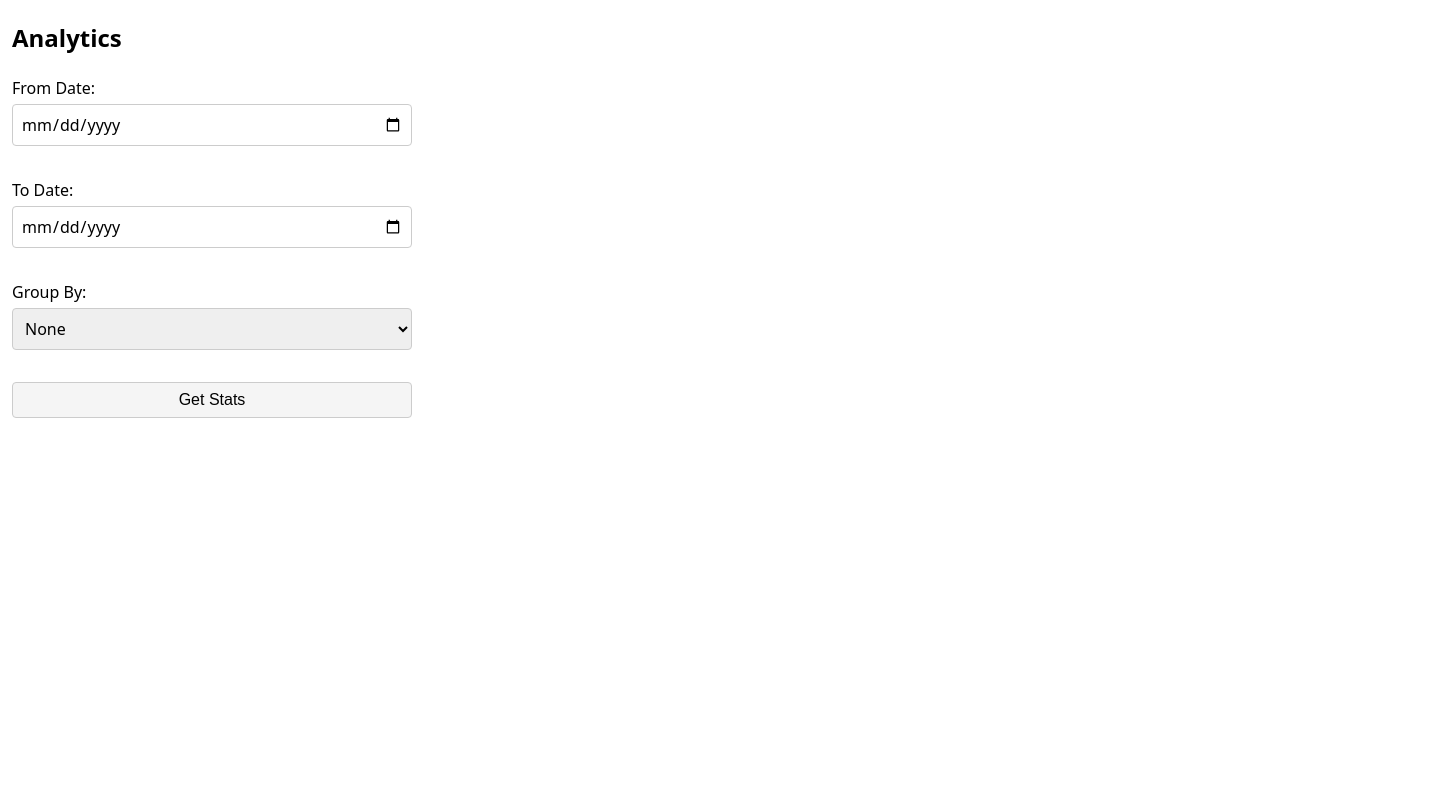
Test: AnalyticsView › renders period column when groupBy is set
Step 1. Select "Day" in the dropdown with id "group-by" → [212, 329], box [12,308,412,350]
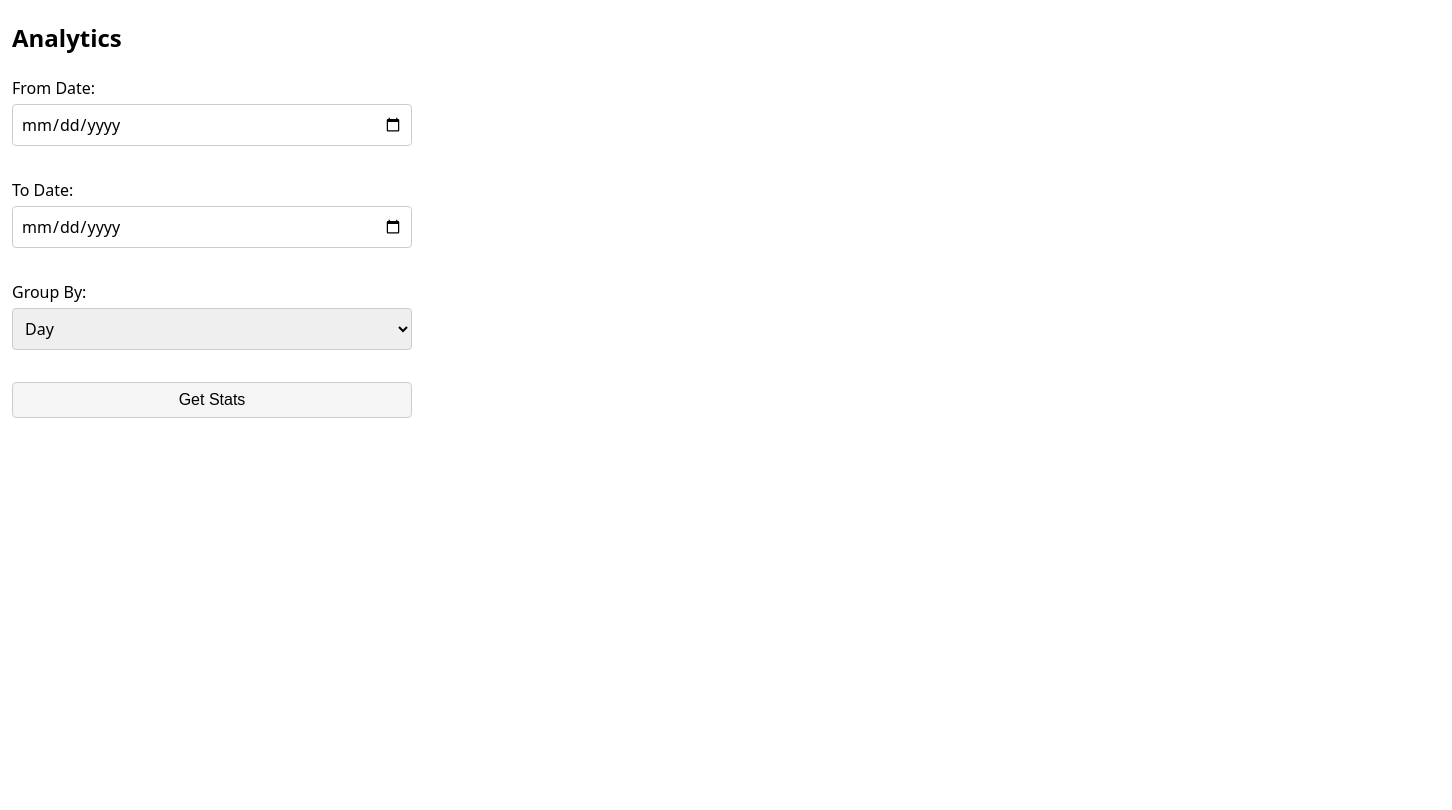
Step 2. Submit the form, box [12,76,412,418]
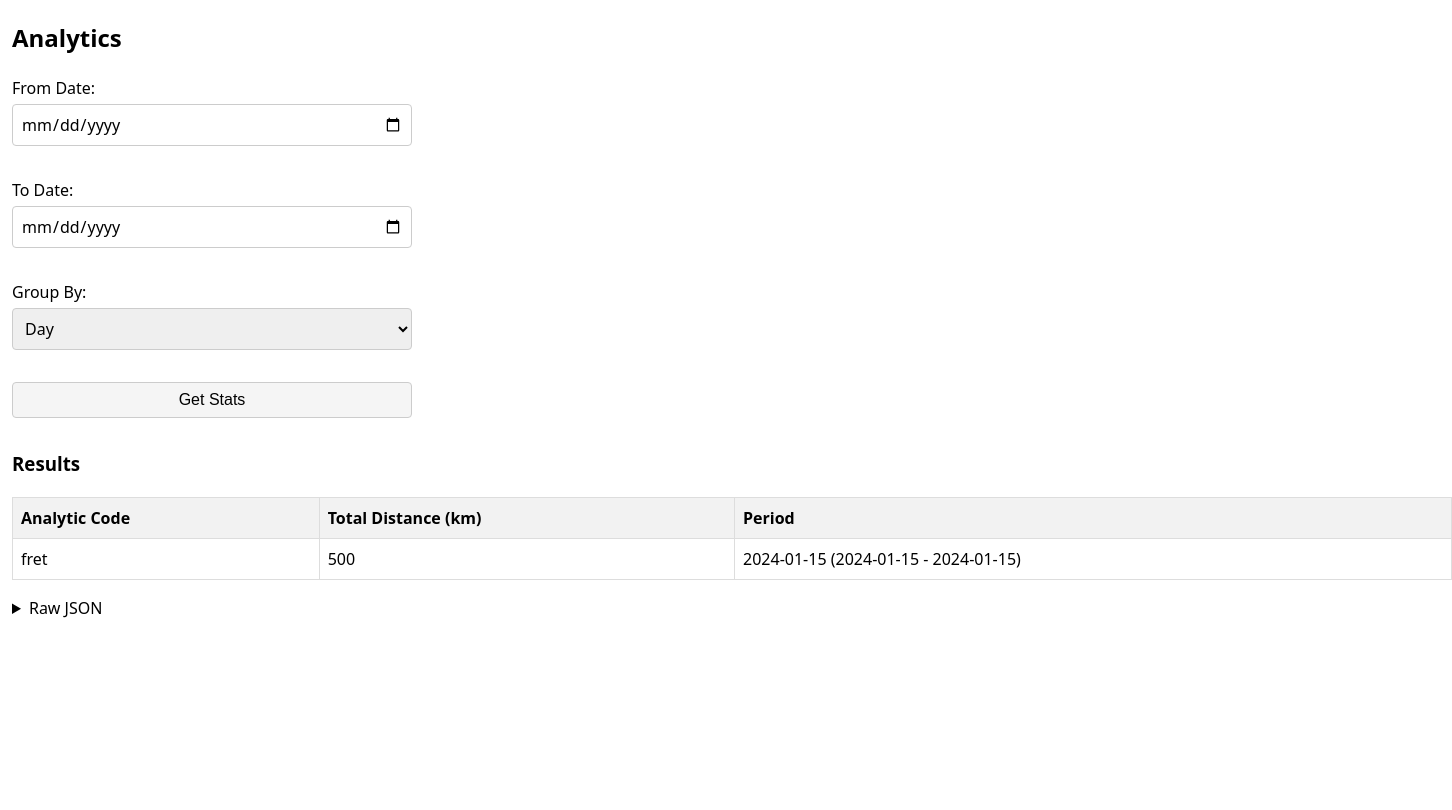
Now the number of column headings is 3, box [12,497,319,538]; [319,497,734,538]; [734,497,1451,538]
Now the text "Period" is shown, box [734,497,1451,538]
Now the text "2024-01-15" is shown, box [743,548,1021,570]
